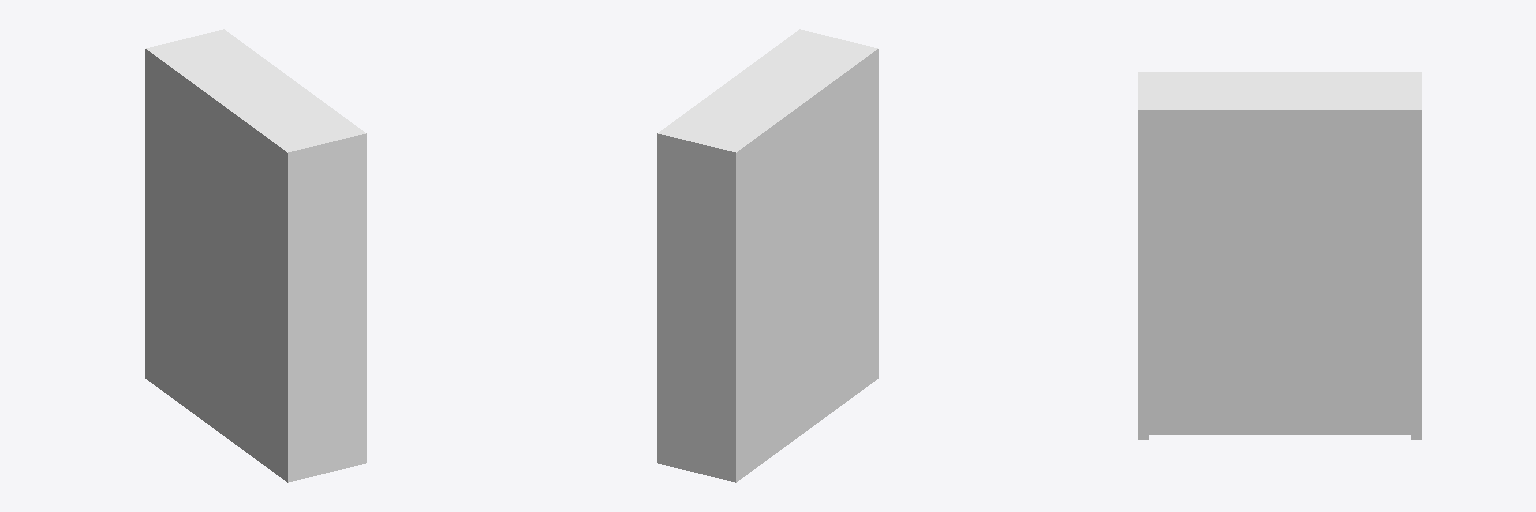
The model's file is wardrobe.obj.
3 renders of one model, left to right at view 1: azimuth 30°, elevation 25°; view 2: azimuth 150°, elevation 25°; view 3: azimuth 270°, elevation 25°, orthographic.
Size of the model in its own units: 8 by 32 by 25.